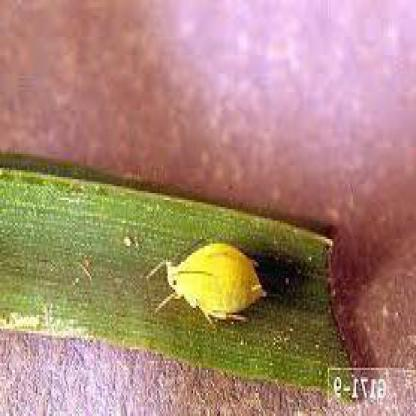schizaphis graminum: (151, 243, 267, 321)
